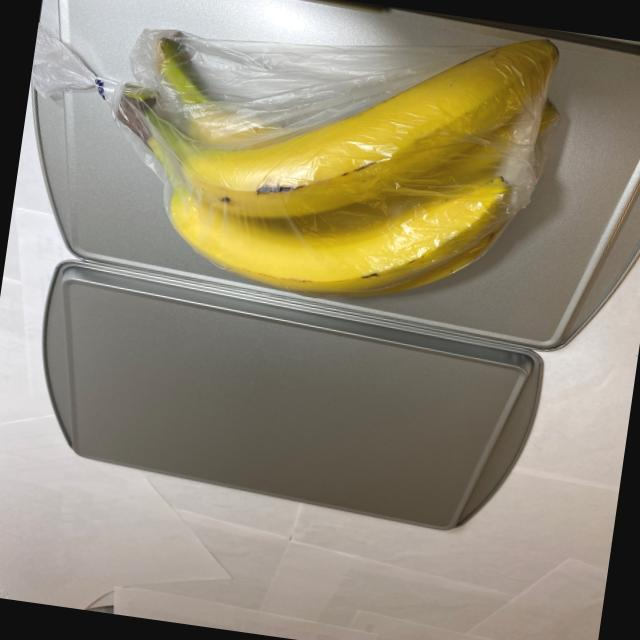banana: (74, 0, 583, 330)
